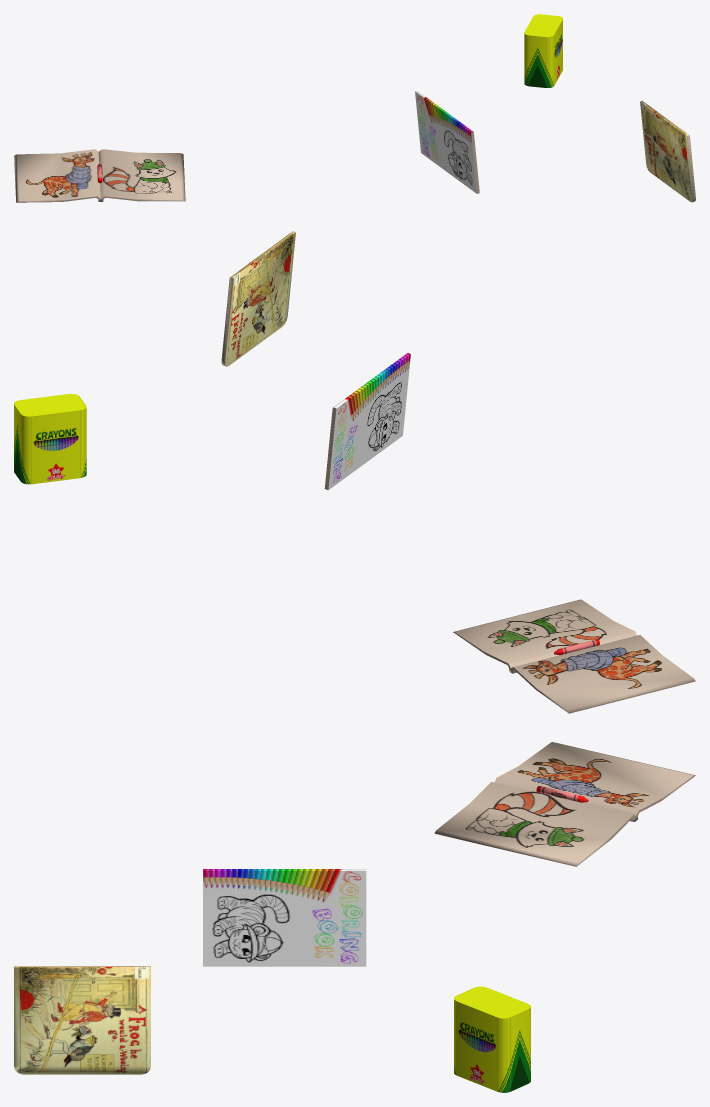
Rendered from kids_books.fbx.
The picture shows the model from 3 angles, top to bottom: view 1: azimuth 30°, elevation 25°; view 2: azimuth 150°, elevation 25°; view 3: azimuth 270°, elevation 25°; orthographic projection. The views are drawn at different scales.
Parts seen in each view (by area): view 1: ColoringBook_Open, ColoringBook_Closed, ChildrensBook_Closed, CrayonBox; view 2: ColoringBook_Open, ColoringBook_Closed, CrayonBox, ChildrensBook_Closed; view 3: ColoringBook_Open, ColoringBook_Closed, ChildrensBook_Closed, CrayonBox.
Boxes of the visible parts, x1=… form: ColoringBook_Open: x1=14, y1=149, x2=185, y2=202; ColoringBook_Closed: x1=415, y1=90, x2=479, y2=193; ChildrensBook_Closed: x1=640, y1=100, x2=695, y2=202; CrayonBox: x1=524, y1=14, x2=562, y2=87; ColoringBook_Open: x1=453, y1=599, x2=695, y2=713; ColoringBook_Closed: x1=324, y1=353, x2=410, y2=490; CrayonBox: x1=14, y1=394, x2=86, y2=484; ChildrensBook_Closed: x1=221, y1=231, x2=295, y2=366; ColoringBook_Open: x1=434, y1=742, x2=695, y2=866; ColoringBook_Closed: x1=203, y1=869, x2=366, y2=966; ChildrensBook_Closed: x1=14, y1=966, x2=150, y2=1074; CrayonBox: x1=454, y1=986, x2=530, y2=1092.
Size of the model in its own units: 152 by 23.07 by 117.
2 materials, 2 textured.
